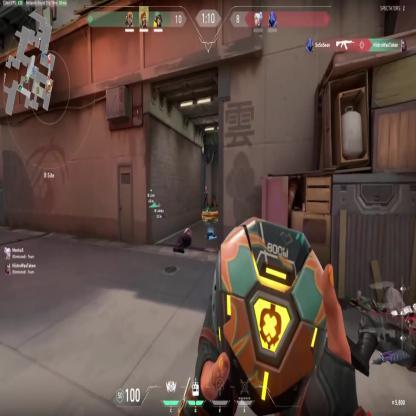enemy: (204, 184, 209, 212)
enemy_head: (204, 184, 208, 192)
